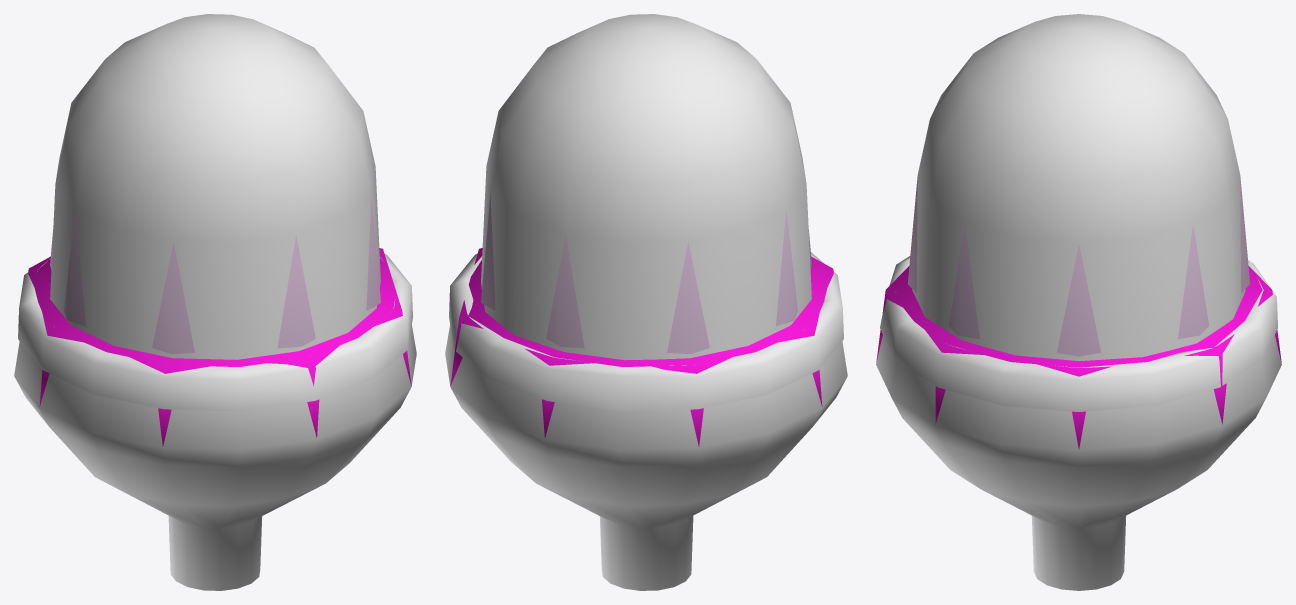
The model's file is LightSingleRotary.fbx.
The picture shows the model from 3 angles, left to right: view 1: azimuth 30°, elevation 25°; view 2: azimuth 150°, elevation 25°; view 3: azimuth 270°, elevation 25°; orthographic projection.
Visible parts, largest first — view 1: LightSingleRotary_LOD0, UTM_LightSingleRotary.001, UTM_LightSingleRotary; view 2: LightSingleRotary_LOD0, UTM_LightSingleRotary, UTM_LightSingleRotary.001; view 3: LightSingleRotary_LOD0, UTM_LightSingleRotary, UTM_LightSingleRotary.001.
Boxes of the visible parts, bbox=[...] form: LightSingleRotary_LOD0: bbox=[14, 14, 416, 590]; UTM_LightSingleRotary.001: bbox=[28, 248, 411, 446]; UTM_LightSingleRotary: bbox=[50, 193, 380, 354]; LightSingleRotary_LOD0: bbox=[445, 14, 847, 590]; UTM_LightSingleRotary: bbox=[481, 193, 811, 354]; UTM_LightSingleRotary.001: bbox=[450, 248, 833, 446]; LightSingleRotary_LOD0: bbox=[876, 14, 1281, 590]; UTM_LightSingleRotary: bbox=[907, 177, 1250, 356]; UTM_LightSingleRotary.001: bbox=[876, 266, 1281, 449].
Size of what is drawn, in the model's own units: 18.86 by 27.84 by 18.86.
